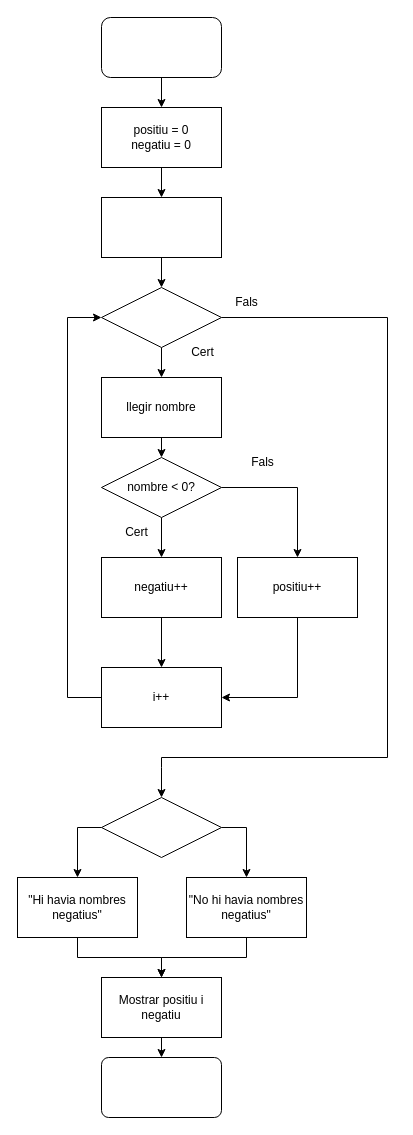
This 413x1135 diagram has some shape labels left out. The shapes that lost their labels are listed below. From the top down, each one's box as (x1, y1, x2, y2) in pixels, then its label:
(100, 16, 222, 78): Inici
(100, 196, 222, 258): i = 1
(100, 286, 222, 348): i <= 100?
(100, 796, 222, 858): negatiu == 0?
(100, 1056, 222, 1118): Fi
